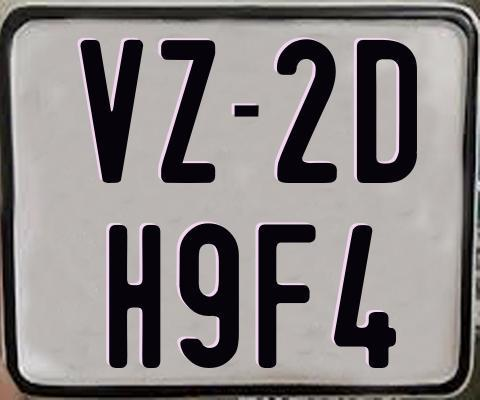2: (277, 37, 343, 185)
4: (332, 222, 395, 370)
9: (178, 222, 241, 370)
D: (357, 38, 417, 181)
F: (255, 221, 314, 370)
H: (109, 225, 162, 370)
V: (78, 39, 141, 183)
Z: (159, 40, 215, 183)
